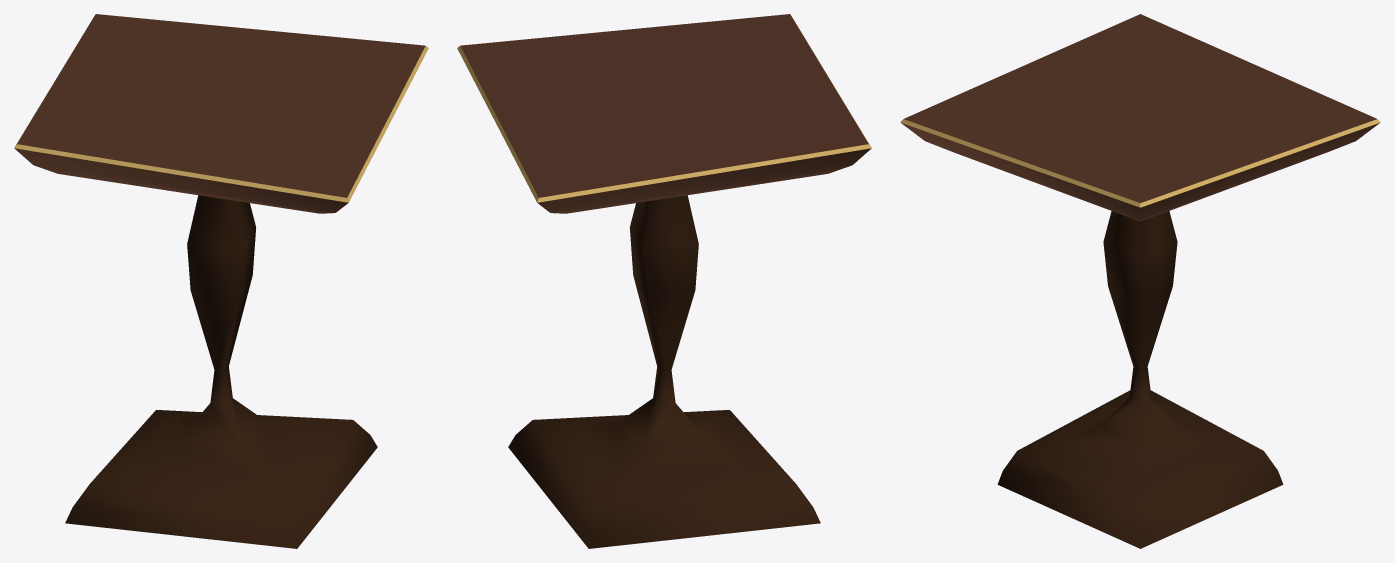
Rendered from MiscSquareTable.fbx.
The picture shows the model from 3 angles, left to right: view 1: azimuth 30°, elevation 25°; view 2: azimuth 150°, elevation 25°; view 3: azimuth 270°, elevation 25°; orthographic projection. The views are drawn at different scales.
Parts seen in each view (by area): view 1: SquareTableUVd:revolvedSurface3; view 2: SquareTableUVd:revolvedSurface3; view 3: SquareTableUVd:revolvedSurface3.
Part boxes in pixels (x1,y1,x2,y2): SquareTableUVd:revolvedSurface3: [14, 14, 428, 548]; SquareTableUVd:revolvedSurface3: [457, 14, 871, 548]; SquareTableUVd:revolvedSurface3: [900, 14, 1380, 548].
Bounding box in the file's own units: 110 × 101 × 117.
